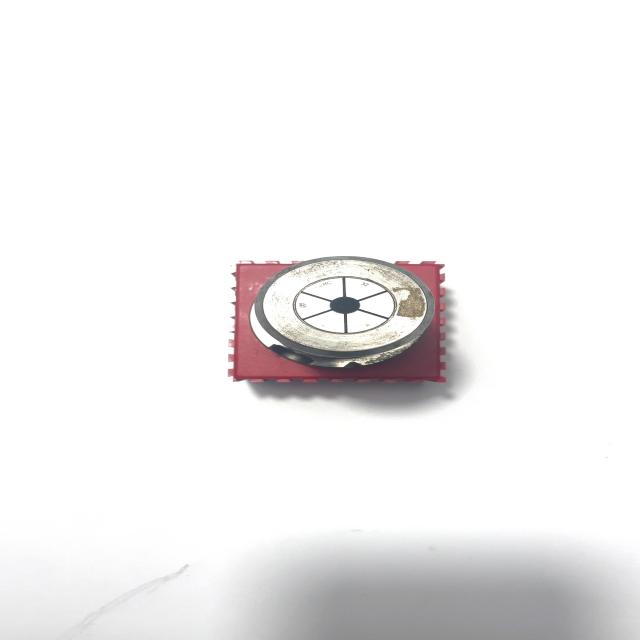Filled_Slot: (249, 256, 434, 368)
